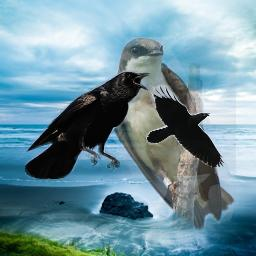Crow: (25, 70, 151, 179), (146, 84, 226, 167)
Swallow: (106, 37, 236, 232)
